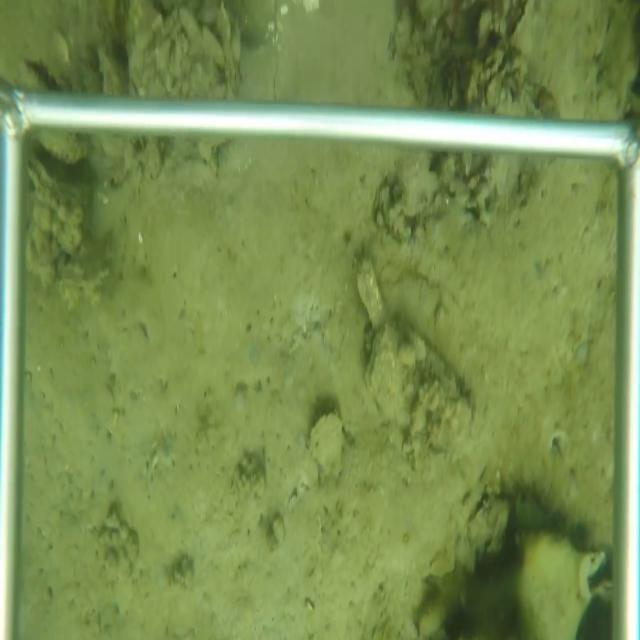Oyster-Closed: (361, 318, 481, 458), (506, 1, 536, 47)
